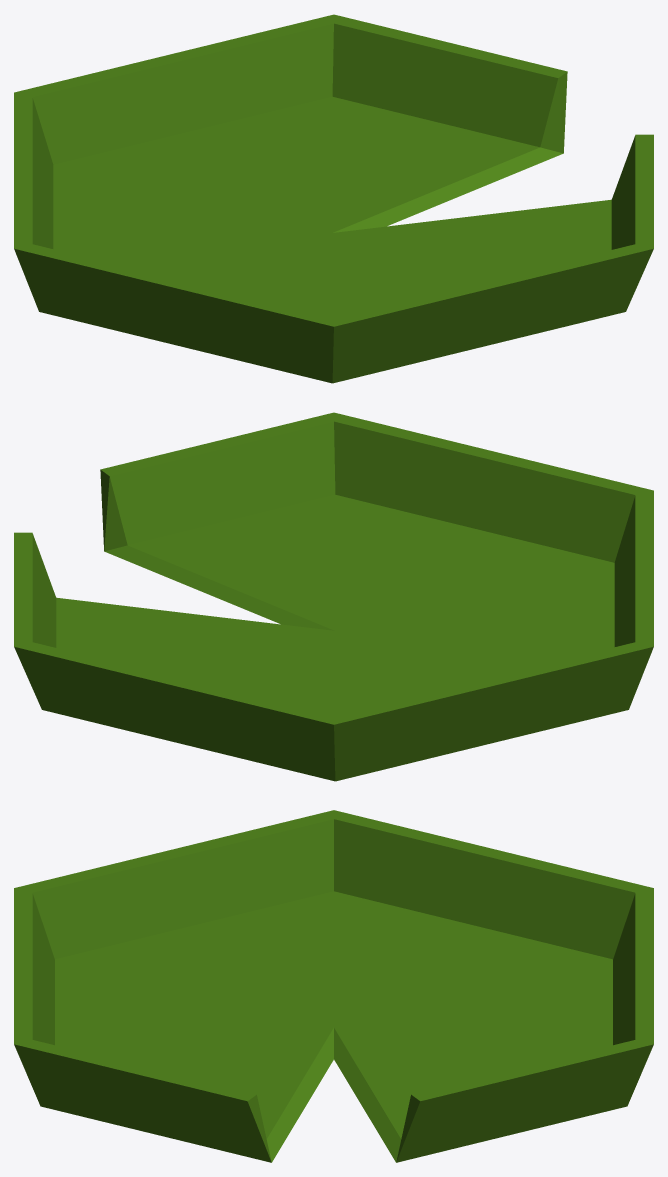
File: Vegetation_Lily_Pad_01.fbx
3 renders of one model, top to bottom at view 1: azimuth 30°, elevation 25°; view 2: azimuth 150°, elevation 25°; view 3: azimuth 270°, elevation 25°, orthographic.
Visible parts, largest first — view 1: Vegetation_Lily_Pad_01; view 2: Vegetation_Lily_Pad_01; view 3: Vegetation_Lily_Pad_01.
Part boxes in pixels (x1,y1,x2,y2): Vegetation_Lily_Pad_01: [14, 14, 653, 383]; Vegetation_Lily_Pad_01: [14, 412, 653, 781]; Vegetation_Lily_Pad_01: [14, 810, 653, 1162].
Size of the model in its own units: 19.08 by 2.12 by 17.72.
